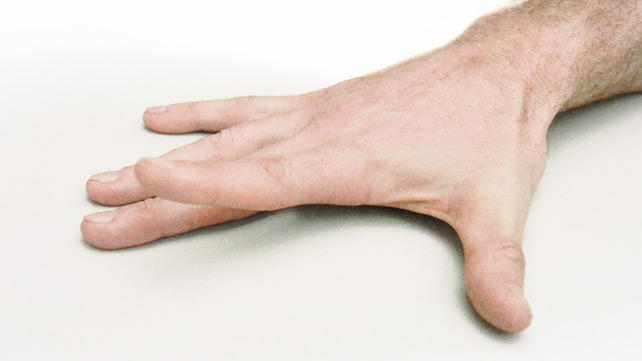finger: (88, 105, 291, 207), (133, 155, 359, 218), (81, 194, 232, 250), (131, 94, 306, 128)
